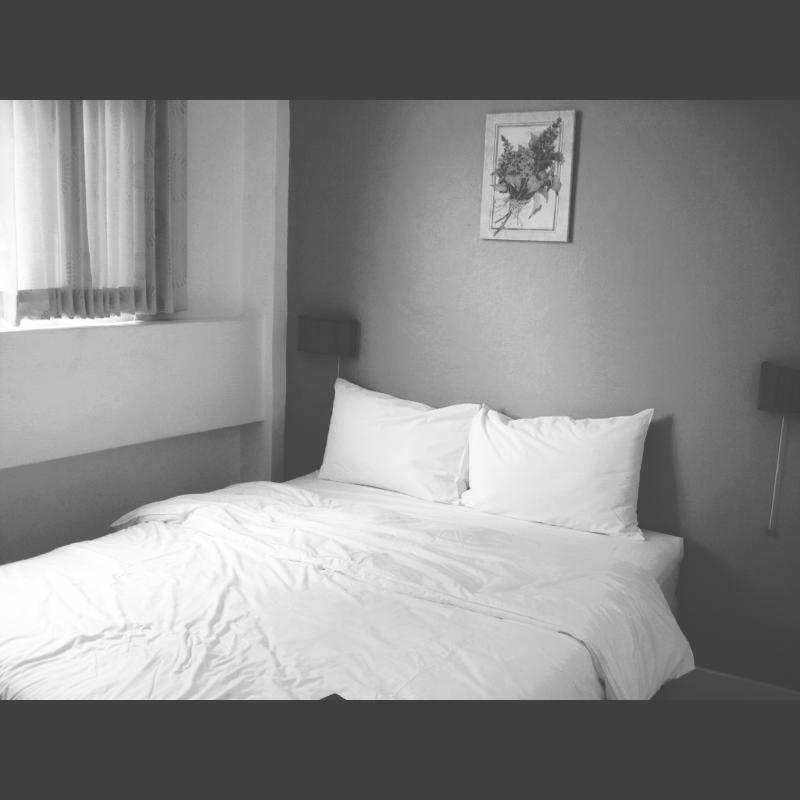pillow: (453, 400, 653, 540), (292, 388, 490, 498)
